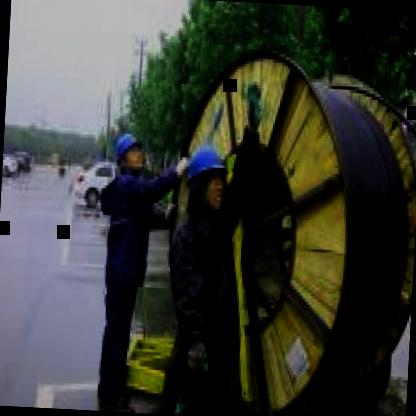helmet: (180, 136, 233, 224), (111, 129, 148, 176)
